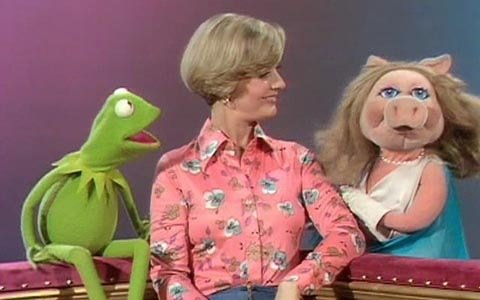kermit: (79, 86, 164, 170)
